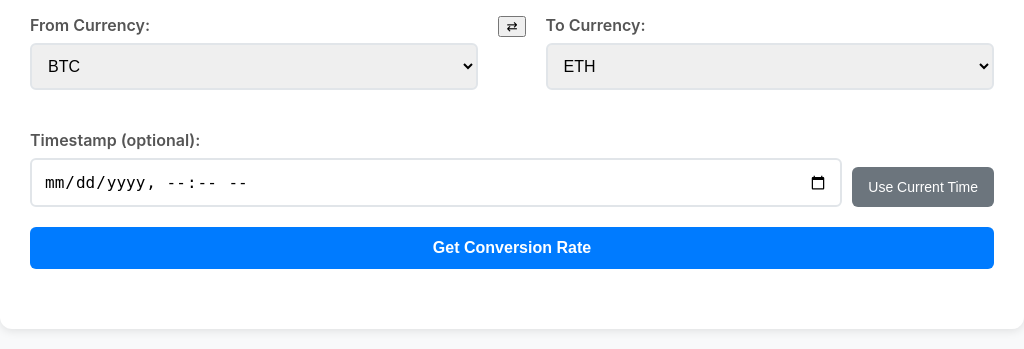
CurrencyConverter › should use current time when button is clicked
This screenshot has width=1024, height=349.
Expected: the field labelled "Timestamp (optional):" is empty, [30, 158, 842, 207]
What coordinates should you click on to do the following:
click the button "Use Current Time"
I would click on:
 (923, 187)
Its box is [852, 167, 994, 207].
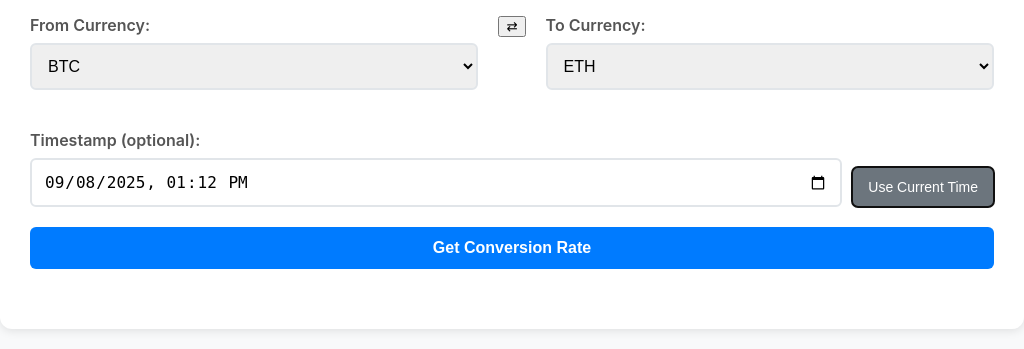
Result: the field labelled "Timestamp (optional):" is not empty at [30, 158, 842, 207]
